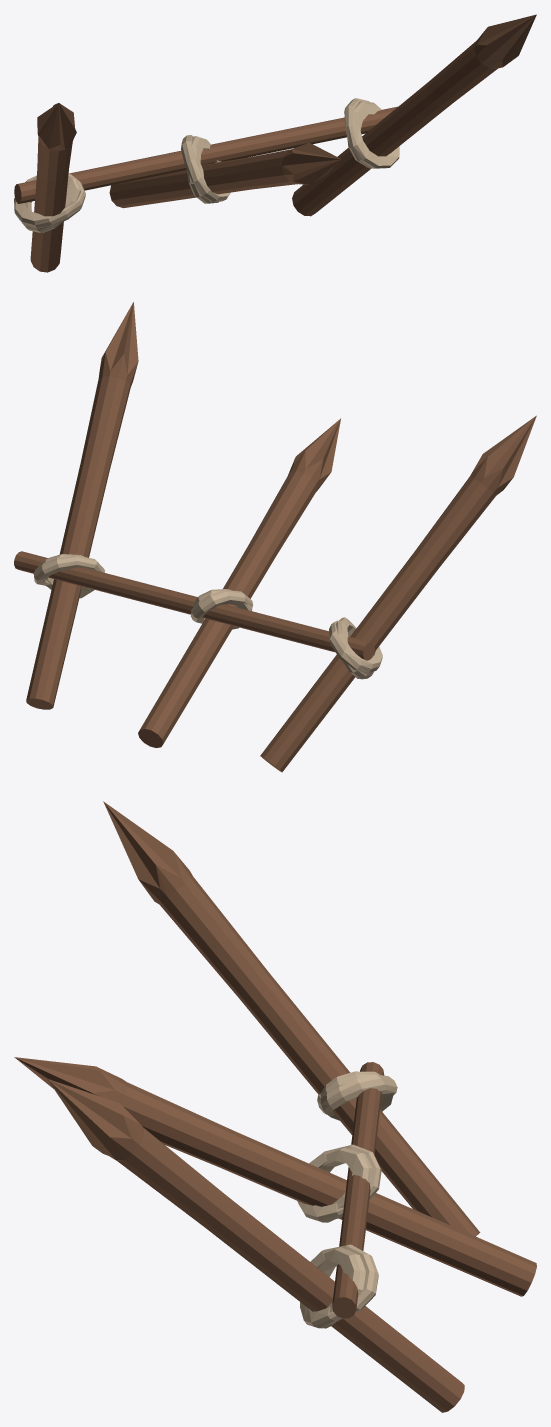
File: SM_single_barrier.fbx
The picture shows the model from 3 angles, top to bottom: view 1: azimuth 30°, elevation 25°; view 2: azimuth 150°, elevation 25°; view 3: azimuth 270°, elevation 25°; orthographic projection. The views are drawn at different scales.
Visible parts, largest first — view 1: single_barrier; view 2: single_barrier; view 3: single_barrier.
Part boxes in pixels (box(x1,y1,x2,y2)): single_barrier: box(14, 14, 536, 272); single_barrier: box(14, 302, 536, 772); single_barrier: box(14, 801, 536, 1412).
Size of the model in its own units: 211 by 135 by 169.
